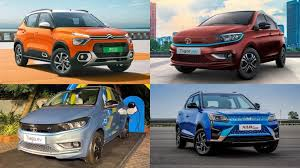Tiago: (168, 8, 289, 79)
